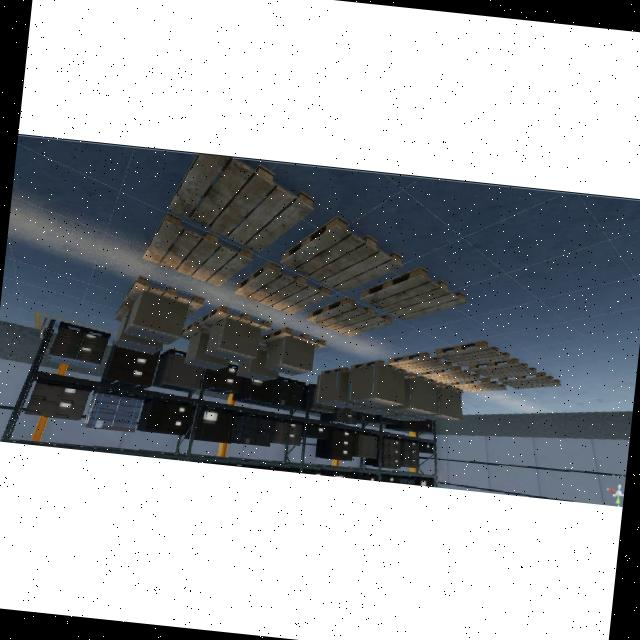wooden_pallet: (282, 215, 405, 292), (143, 212, 253, 287), (359, 266, 466, 321), (235, 260, 331, 314), (306, 296, 393, 336), (123, 276, 203, 317), (434, 340, 511, 366), (199, 305, 271, 332), (259, 327, 327, 349), (468, 358, 536, 379), (387, 352, 453, 373), (421, 365, 481, 383), (498, 372, 561, 389), (450, 377, 507, 393), (350, 360, 408, 374), (404, 373, 437, 385)
